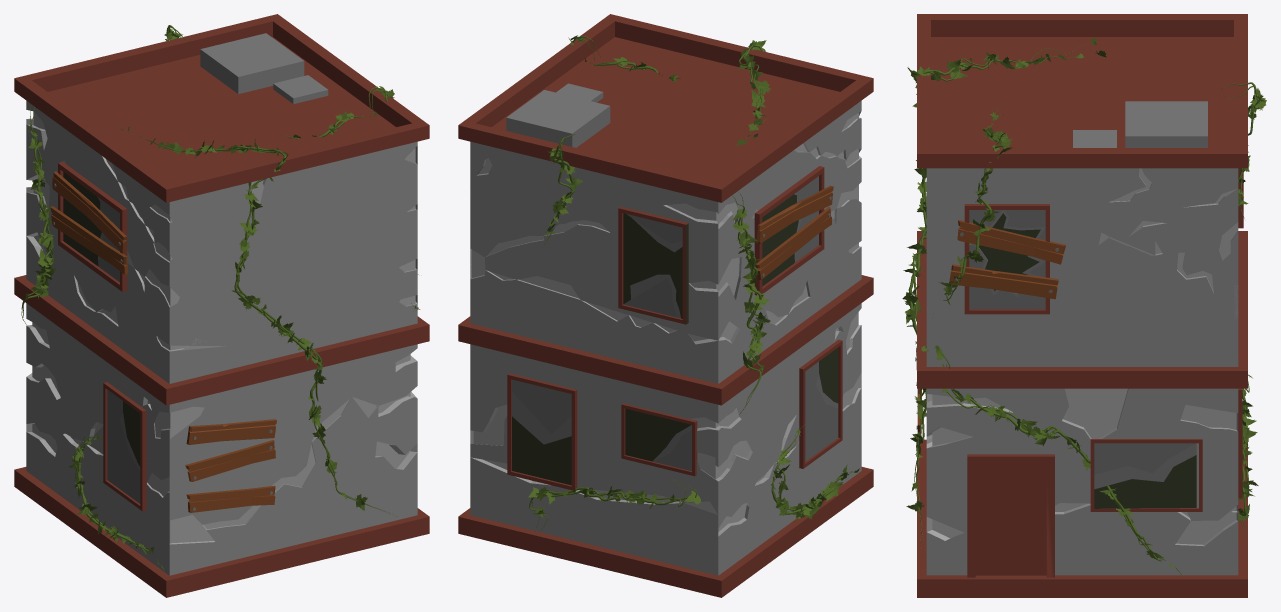
File: Building2_Fix.fbx
3 renders of one model, left to right at view 1: azimuth 30°, elevation 25°; view 2: azimuth 150°, elevation 25°; view 3: azimuth 270°, elevation 25°, orthographic. The views are drawn at different scales.
Parts seen in each view (by area): view 1: Building, Wooden Planks, Vines.006, Cube, Windows/Doors.012, Windows/Doors.013; view 2: Building, Vines.006, Windows/Doors.003, Windows/Doors.015, Windows/Doors.012, Cube, Windows/Doors.014, Windows/Doors.013, Wooden Planks; view 3: Building, Windows/Doors.008, Vines.006, Windows/Doors.002, Windows/Doors.009, Cube, Wooden Planks.008, Wooden Planks.006, Windows/Doors.015.
Part boxes in pixels (x1,y1,x2,y2): Building: [14, 14, 429, 597]; Wooden Planks: [50, 171, 276, 512]; Vines.006: [21, 25, 420, 570]; Cube: [200, 33, 328, 103]; Windows/Doors.012: [103, 382, 146, 511]; Windows/Doors.013: [58, 162, 127, 291]; Building: [458, 14, 873, 597]; Vines.006: [528, 35, 859, 533]; Windows/Doors.003: [618, 206, 688, 324]; Windows/Doors.015: [507, 373, 577, 490]; Windows/Doors.012: [799, 339, 842, 468]; Cube: [506, 83, 610, 147]; Windows/Doors.014: [621, 403, 697, 476]; Windows/Doors.013: [754, 166, 824, 295]; Wooden Planks: [755, 185, 833, 279]; Building: [917, 14, 1247, 597]; Windows/Doors.008: [967, 454, 1054, 577]; Vines.006: [902, 38, 1266, 576]; Windows/Doors.002: [1090, 439, 1202, 511]; Windows/Doors.009: [964, 204, 1049, 314]; Cube: [1073, 101, 1207, 147]; Wooden Planks.008: [949, 264, 1058, 299]; Wooden Planks.006: [957, 219, 1065, 264]; Windows/Doors.015: [1238, 388, 1242, 498].
Bounding box in the file's own units: 499 × 683 × 492.
